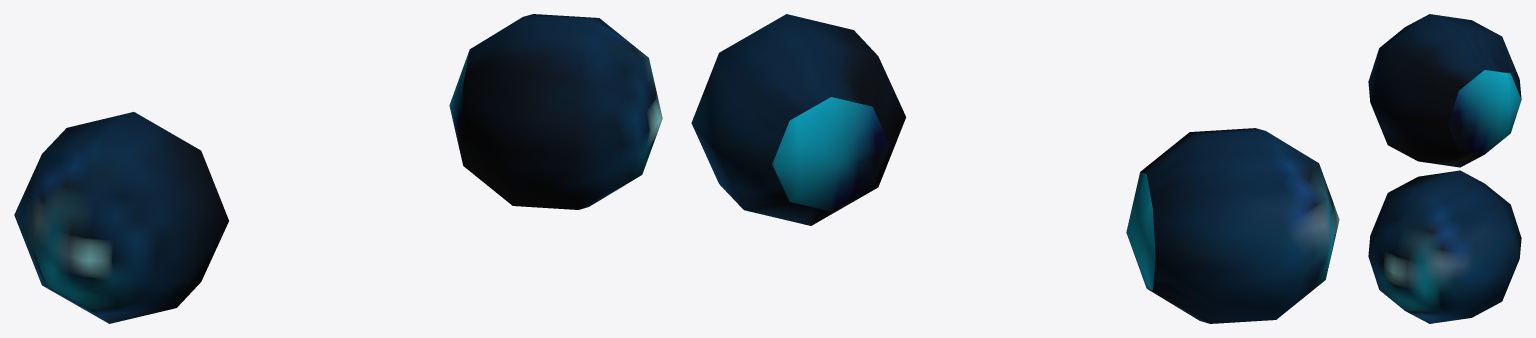
3 views of the same model, side by side, from view 1: azimuth 30°, elevation 25°; view 2: azimuth 150°, elevation 25°; view 3: azimuth 270°, elevation 25° (orthographic). The views are drawn at different scales.
Parts seen in each view (by area): view 1: mesh00; view 2: mesh00; view 3: mesh00.
Part boxes in pixels (x1=…): mesh00: x1=14, y1=14, x2=662, y2=323; mesh00: x1=691, y1=14, x2=1339, y2=323; mesh00: x1=1368, y1=14, x2=1521, y2=323.
Size of the model in its own units: 64.21 by 18.37 by 18.59.
